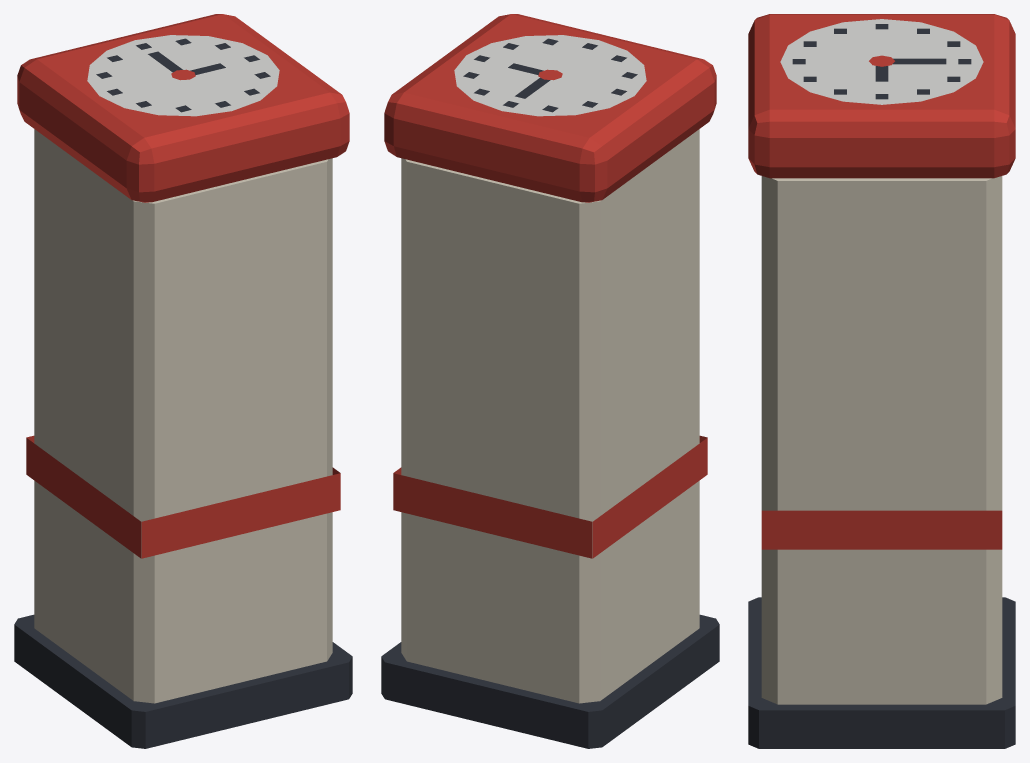
The model's file is school-post.glb.
3 views of the same model, side by side, from view 1: azimuth 30°, elevation 25°; view 2: azimuth 150°, elevation 25°; view 3: azimuth 270°, elevation 25° (orthographic). The views are drawn at different scales.
Visible parts, largest first — view 1: school-post; view 2: school-post; view 3: school-post.
Part boxes in pixels (box(x1,y1,x2,y2)): school-post: box(14, 14, 352, 748); school-post: box(381, 14, 719, 748); school-post: box(748, 14, 1015, 748).
Bounding box in the file's own units: 0.5 × 1.3 × 0.5.
